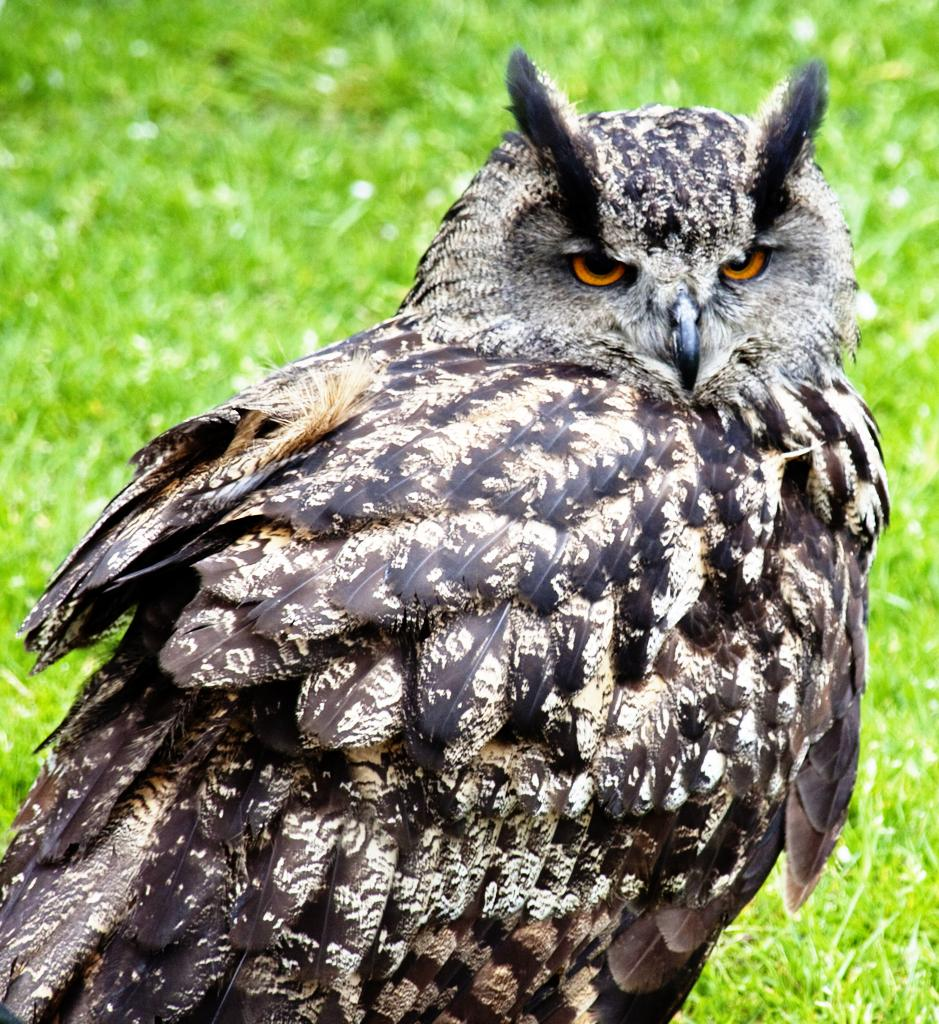Owl: (2, 36, 911, 1024)
